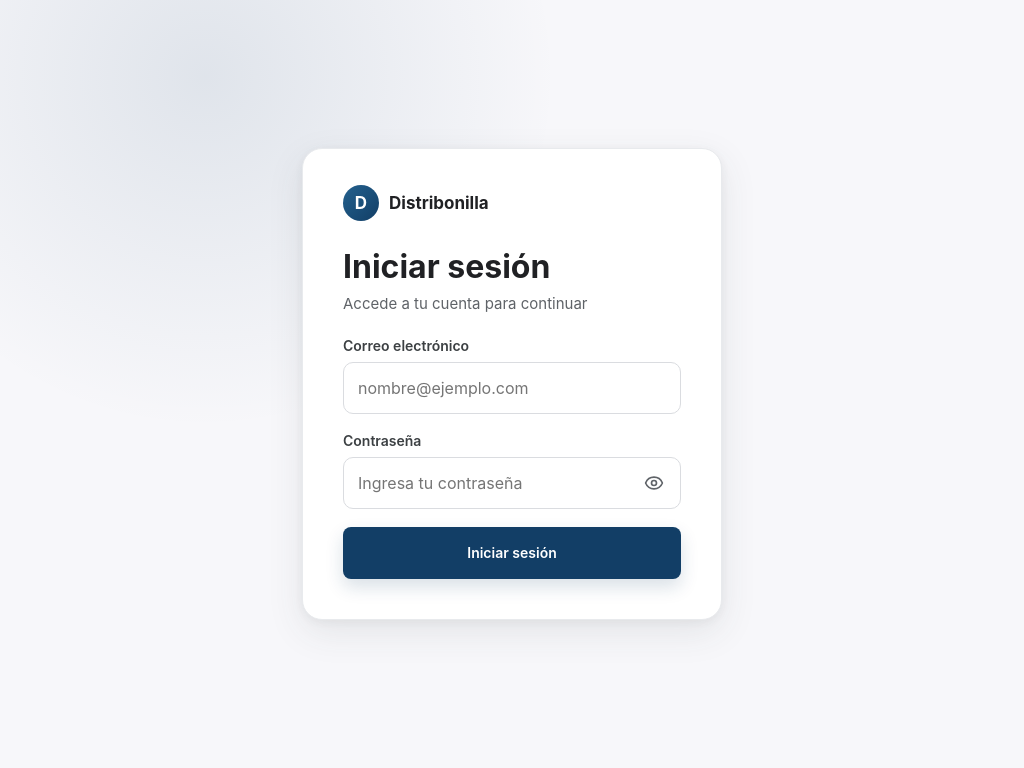
Test case: logs in with exact credentials, establishes session and signs out
The image size is (1024, 768).
In the field labelled "Correo electrónico": (512,388) [343,362,681,414], type "  User@example.com  "
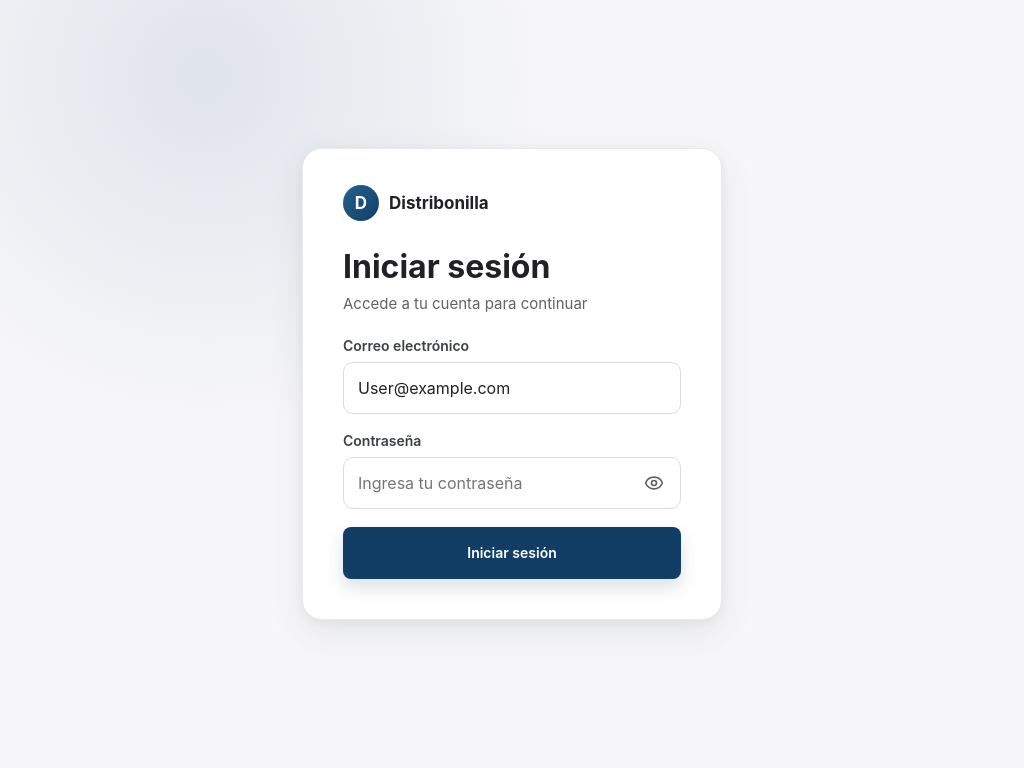
In the password field labelled "Contraseña": (512,483) [343,457,681,509], type "  fixture password  "
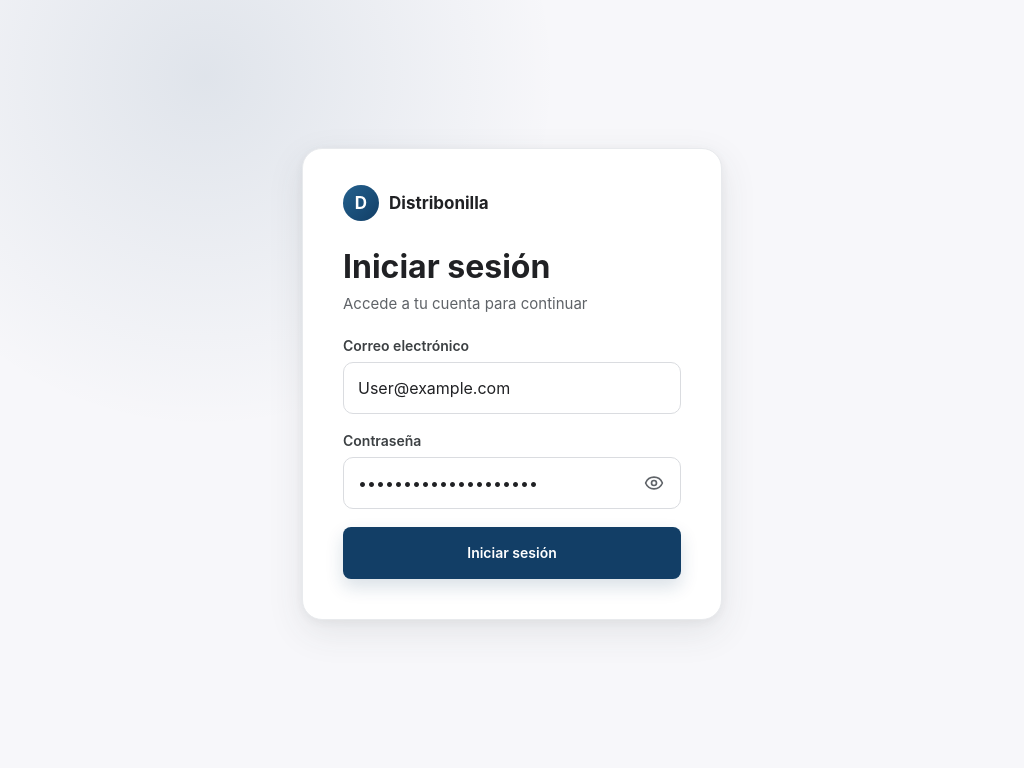
Click the button "Iniciar sesión": (512,553) [343,527,681,579]
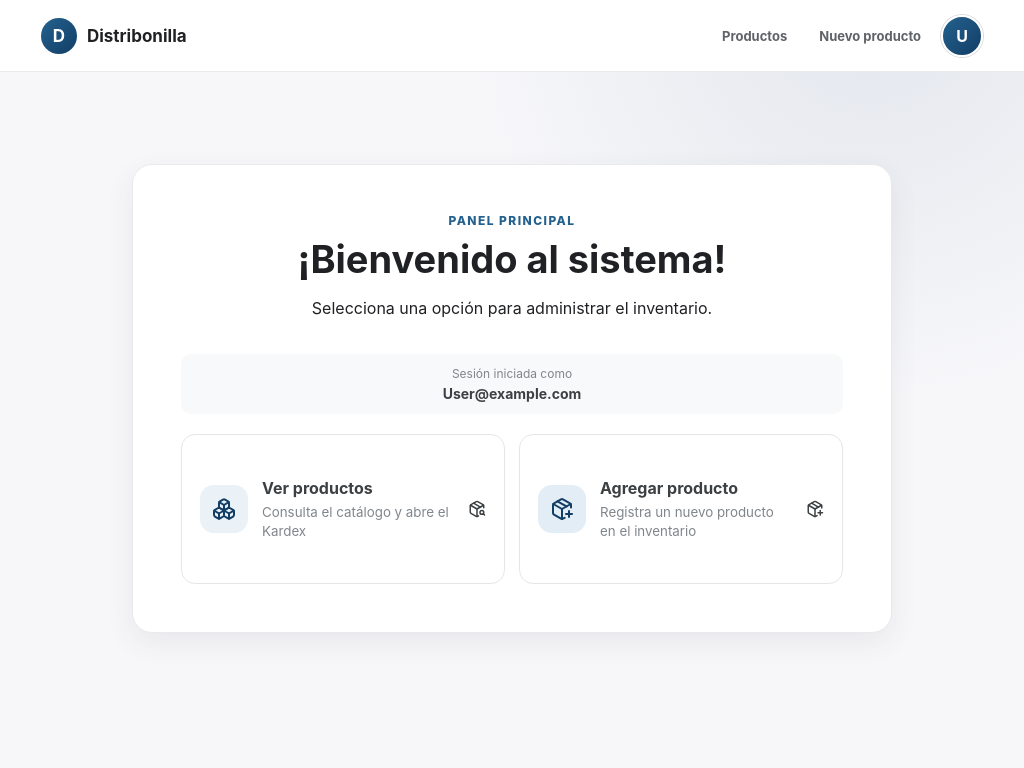
expect the heading "¡Bienvenido al sistema!" is shown: met, box [298,236,726,282]
Click the button named "Abrir menú de usuario": (962,36) [941,14,983,56]
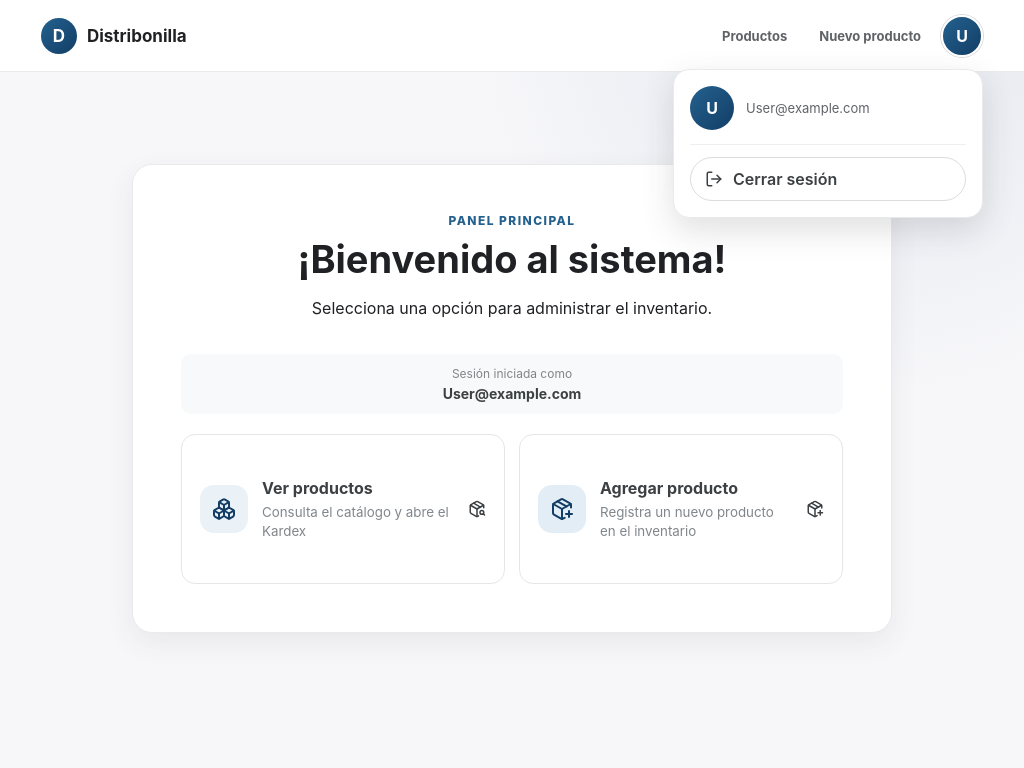
Click the menu item "Cerrar sesión": (828,178) [690,156,966,200]
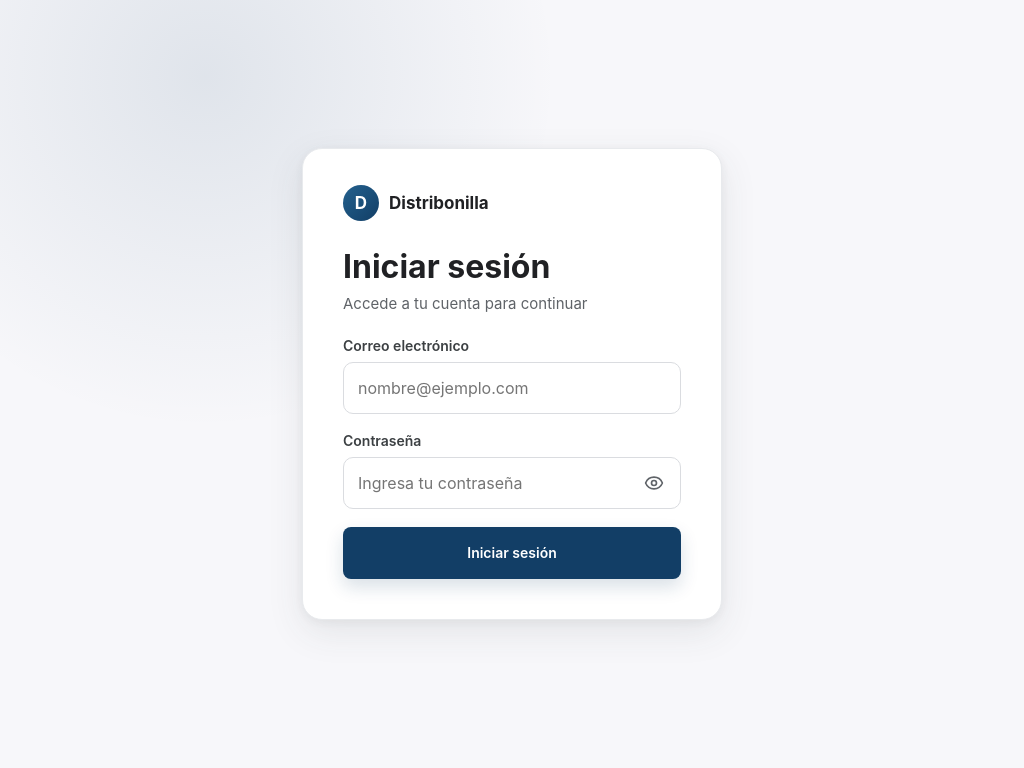
expect the heading "Iniciar sesión" is shown: met, box [343,247,550,286]
